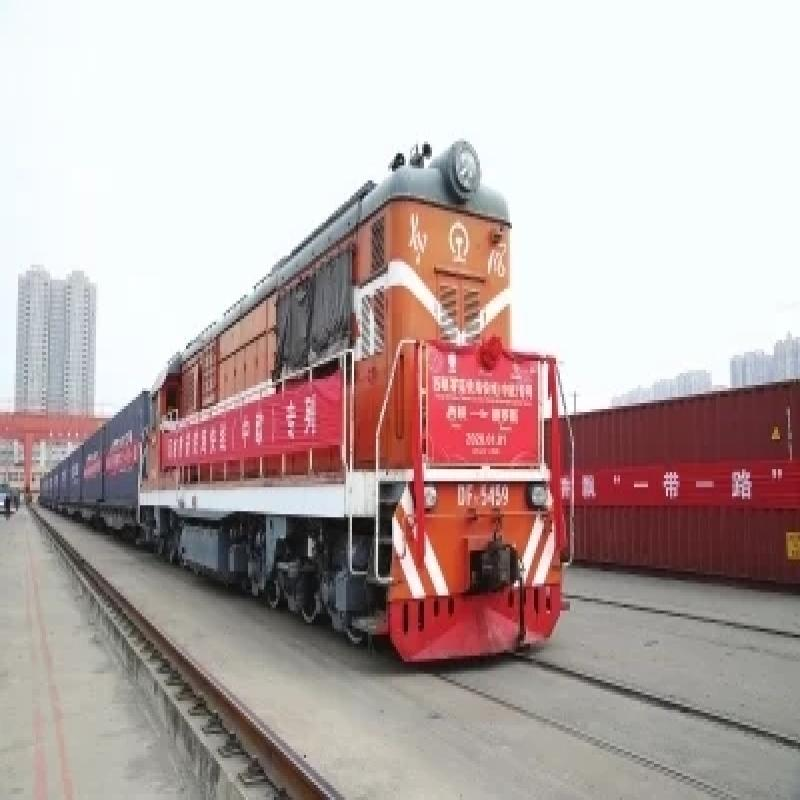train: (145, 118, 573, 672)
